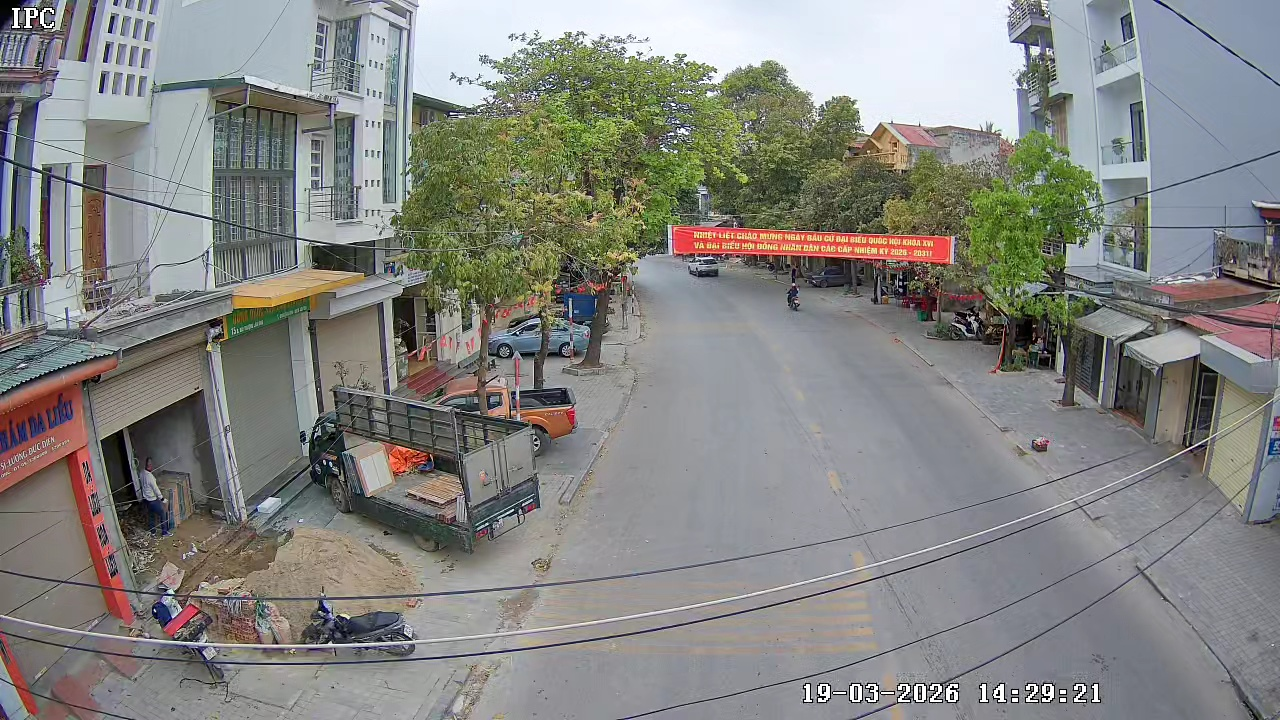car: (513, 384, 578, 453)
motorbike: (786, 285, 801, 312)
